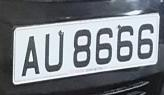6: (93, 21, 115, 71), (115, 21, 136, 67), (135, 20, 156, 65)
8: (70, 24, 93, 74)
A: (20, 30, 41, 81)
U: (42, 31, 65, 76)
